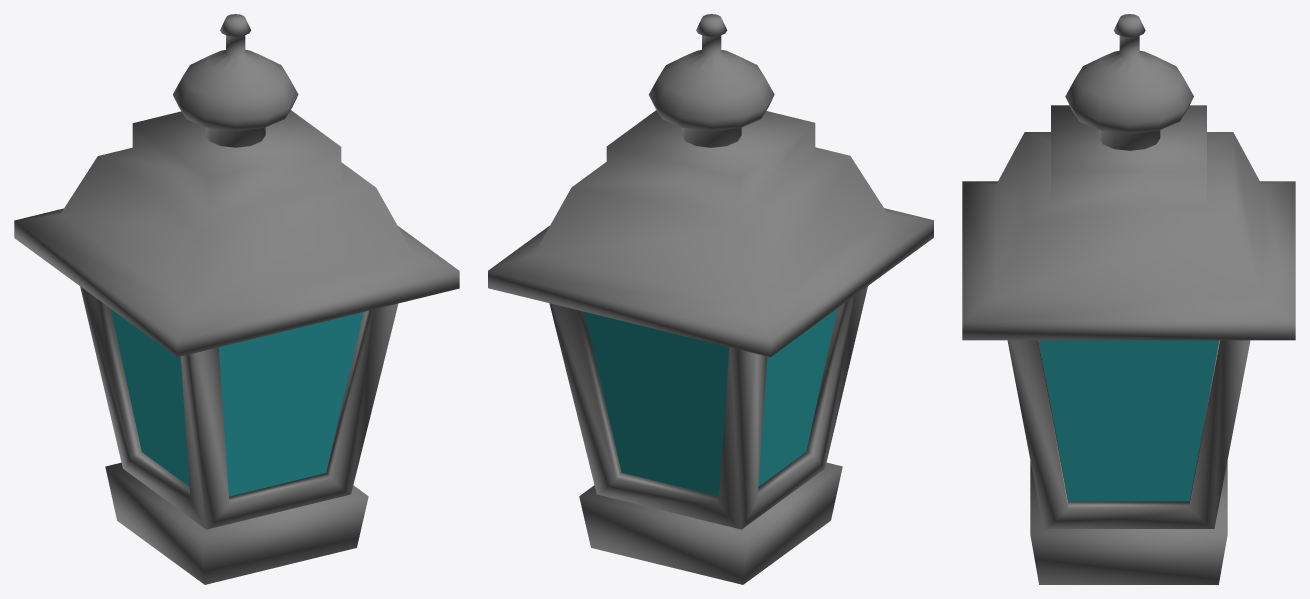
File: SM_lantern.fbx
3 views of the same model, side by side, from view 1: azimuth 30°, elevation 25°; view 2: azimuth 150°, elevation 25°; view 3: azimuth 270°, elevation 25° (orthographic). The views are drawn at different scales.
Visible parts, largest first — view 1: Cylinder030; view 2: Cylinder030; view 3: Cylinder030.
Boxes of the visible parts, box(x1,y1,x2,y2) form: Cylinder030: box(14, 14, 459, 584); Cylinder030: box(488, 14, 933, 584); Cylinder030: box(962, 14, 1295, 584).
Size of the model in its own units: 16.71 by 29.2 by 16.71.
